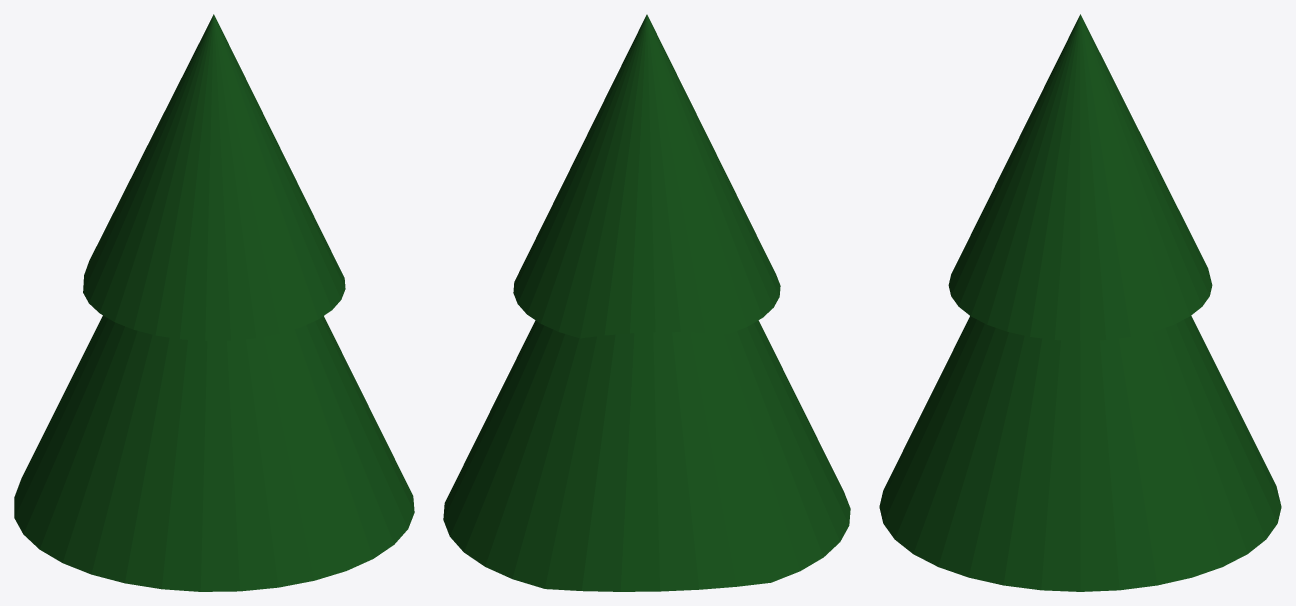
Rendered from tree_boreal.glb.
3 renders of one model, left to right at view 1: azimuth 30°, elevation 25°; view 2: azimuth 150°, elevation 25°; view 3: azimuth 270°, elevation 25°, orthographic.
Parts seen in each view (by area): view 1: Tree_Boreal; view 2: Tree_Boreal; view 3: Tree_Boreal.
Boxes of the visible parts, x1,y1,x2,y2 form: Tree_Boreal: [14, 14, 414, 591]; Tree_Boreal: [443, 14, 850, 591]; Tree_Boreal: [879, 14, 1281, 591].
Bounding box in the file's own units: 0.2218 × 0.2999 × 0.2218.
